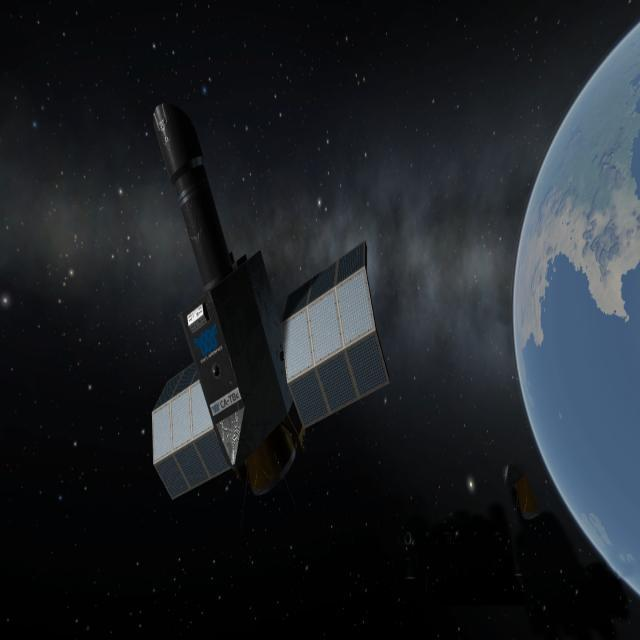sat: (137, 90, 392, 526)
